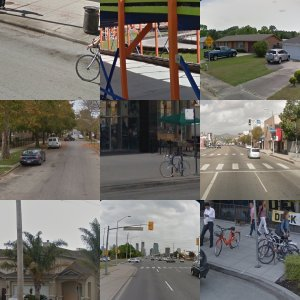汽車: (6, 147, 41, 173), (114, 252, 146, 280), (229, 131, 247, 143), (152, 77, 168, 84)
腳踏車: (23, 1, 95, 64), (267, 16, 294, 63), (238, 217, 263, 243)
行人穿越道: (200, 267, 300, 299)
計程車: (33, 149, 83, 177), (75, 145, 98, 173)
